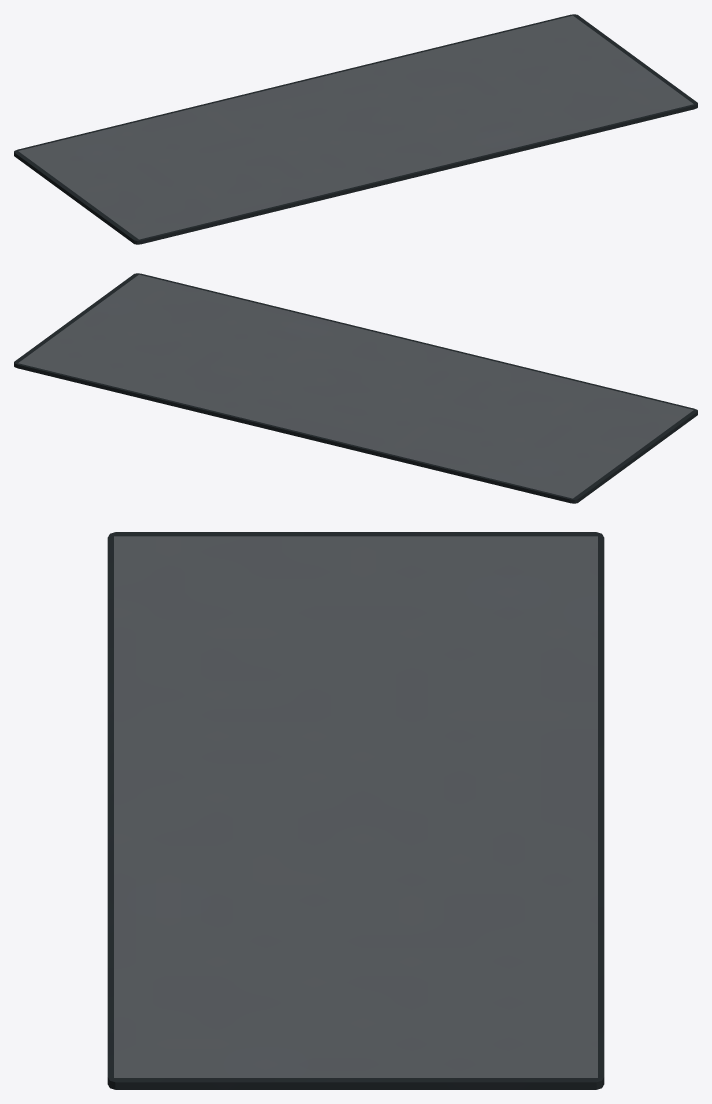
The model's file is Mouse_Pad_01_01.fbx.
The picture shows the model from 3 angles, top to bottom: view 1: azimuth 30°, elevation 25°; view 2: azimuth 150°, elevation 25°; view 3: azimuth 270°, elevation 25°; orthographic projection. The views are drawn at different scales.
Parts seen in each view (by area): view 1: Mouse_Pad_01_01; view 2: Mouse_Pad_01_01; view 3: Mouse_Pad_01_01.
Part boxes in pixels (<box>): Mouse_Pad_01_01: <box>14,14,697,244</box>; Mouse_Pad_01_01: <box>14,273,697,503</box>; Mouse_Pad_01_01: <box>107,532,604,1089</box>.
Bounding box in the file's own units: 1.21 × 0.00776 × 0.4621.
